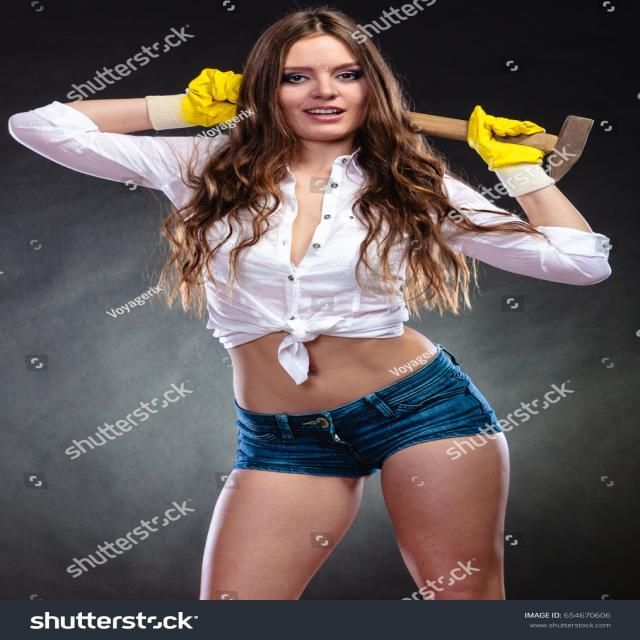hammer: (194, 69, 616, 192)
